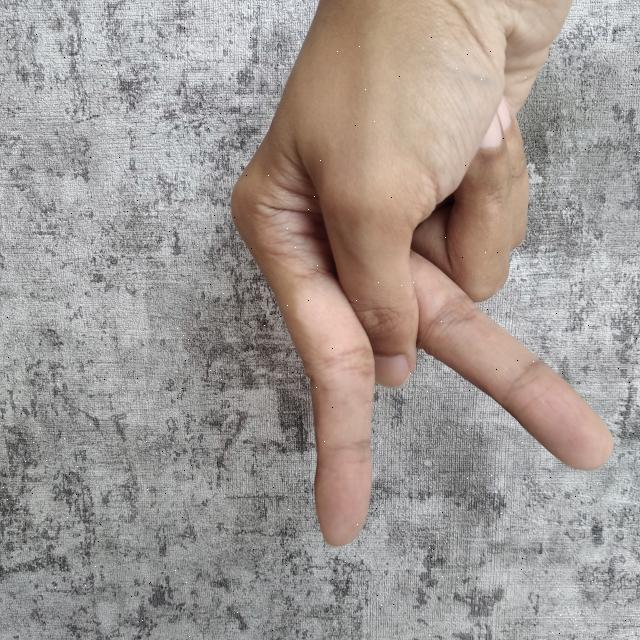P: (215, 0, 638, 550)
